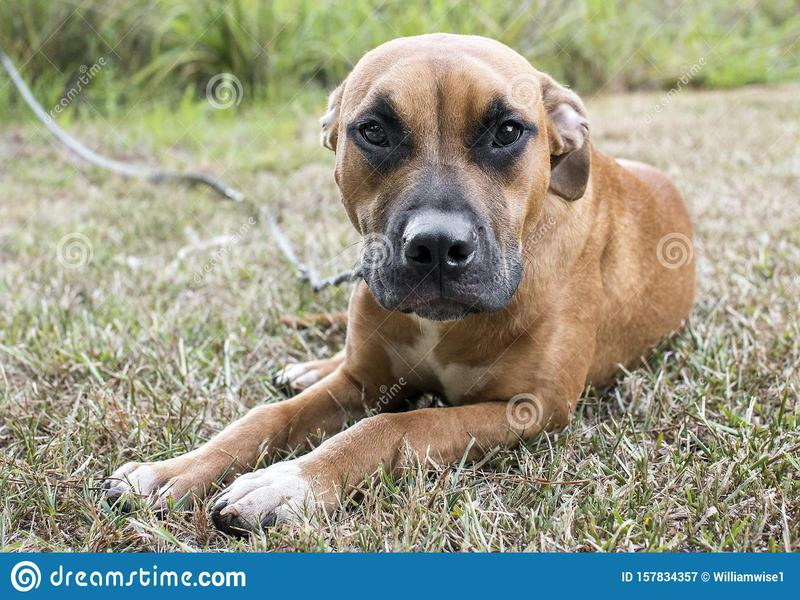dog_down: (99, 32, 701, 538)
